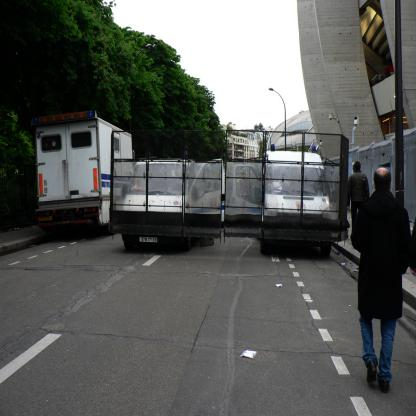Truck: (27, 111, 132, 236)
